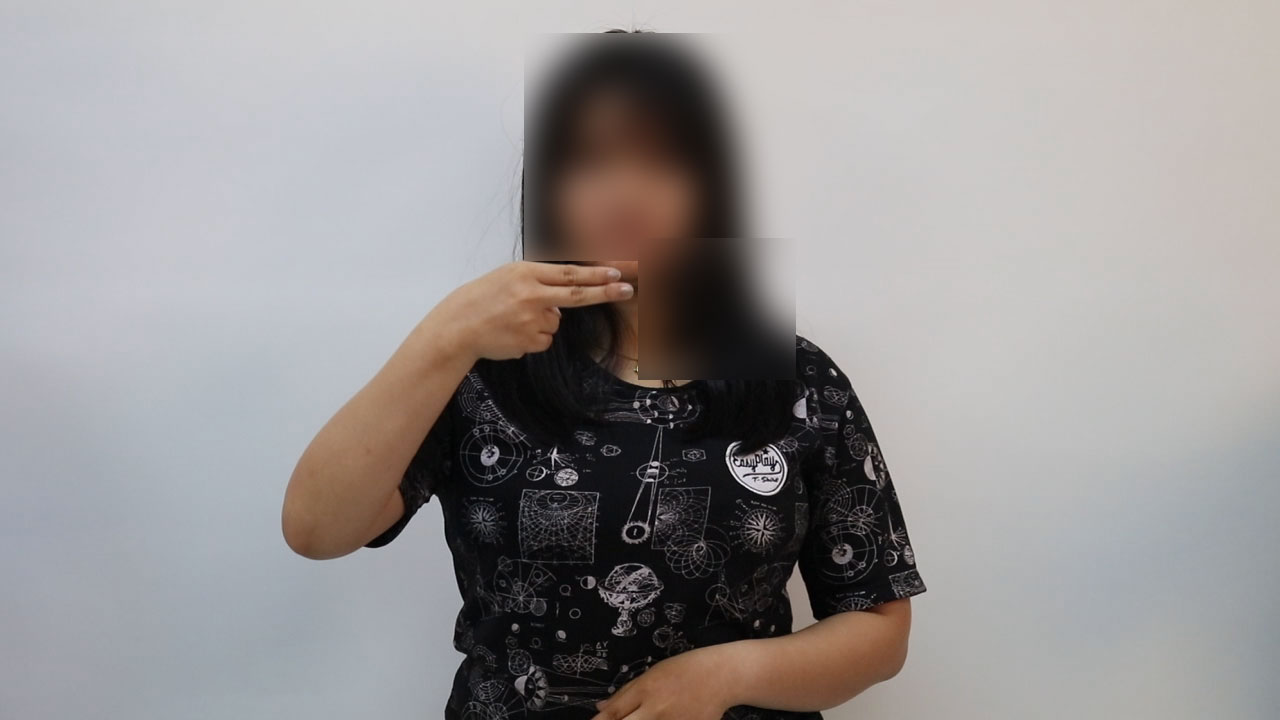hor: (440, 252, 647, 370)
